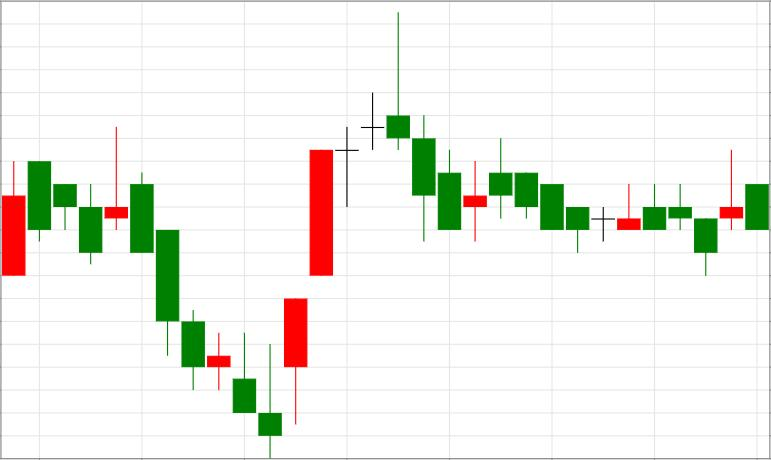morning_star_rise: (131, 172, 308, 459)
shooting_star_fall: (259, 12, 410, 458)
